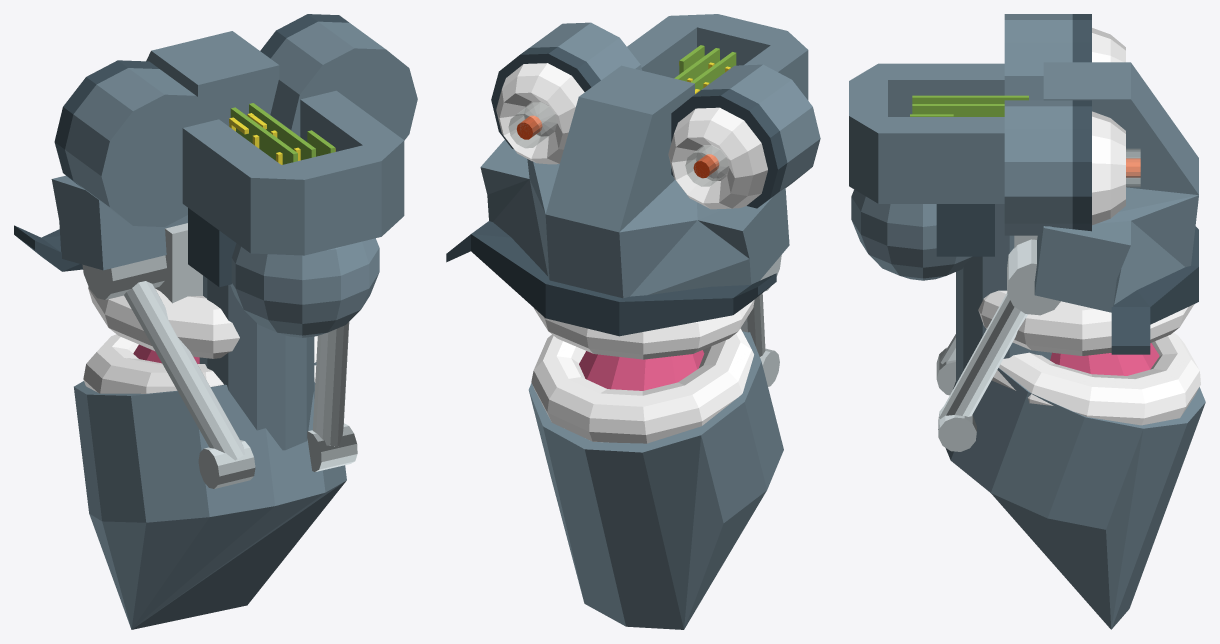
Rendered from scene_w80shVc6V4.glb.
The picture shows the model from 3 angles, left to right: view 1: azimuth 30°, elevation 25°; view 2: azimuth 150°, elevation 25°; view 3: azimuth 270°, elevation 25°; orthographic projection. The views are drawn at different scales.
Parts seen in each view (by area): view 1: Node; view 2: Node; view 3: Node.
Boxes of the visible parts, x1=… form: Node: x1=14, y1=14, x2=417, y2=629; Node: x1=446, y1=14, x2=820, y2=629; Node: x1=849, y1=14, x2=1205, y2=629.
Bounding box in the file's own units: 0.38 × 0.6251 × 0.367.
